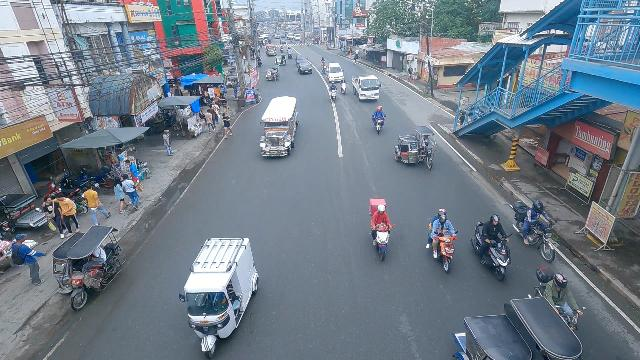car: (327, 61, 343, 83), (297, 60, 314, 75), (295, 54, 308, 61)
jeepney: (258, 95, 298, 159), (265, 44, 277, 55)
motorcycle: (531, 264, 580, 332), (512, 195, 558, 262), (473, 206, 512, 283), (426, 206, 459, 274), (366, 194, 394, 264), (371, 108, 385, 134), (328, 84, 339, 103), (340, 76, 348, 94), (320, 59, 327, 74), (279, 45, 284, 53)
truck: (351, 74, 381, 101)
